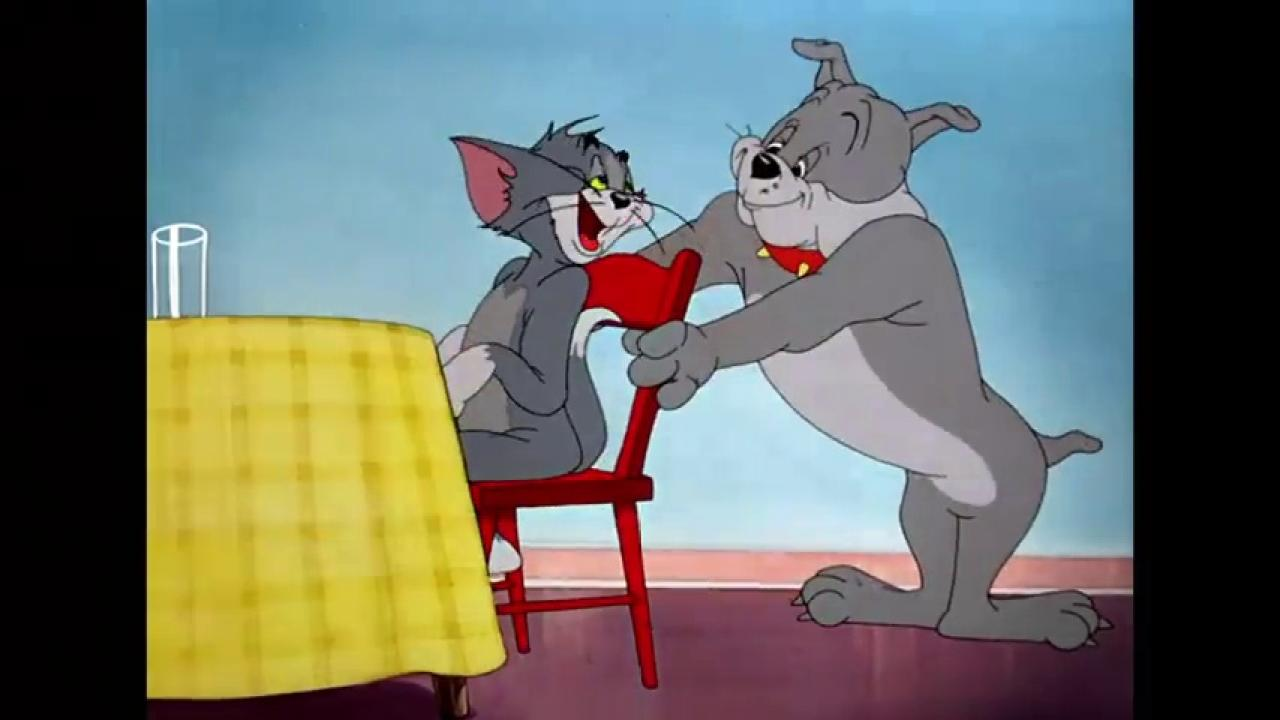Tom: (438, 111, 658, 588)
